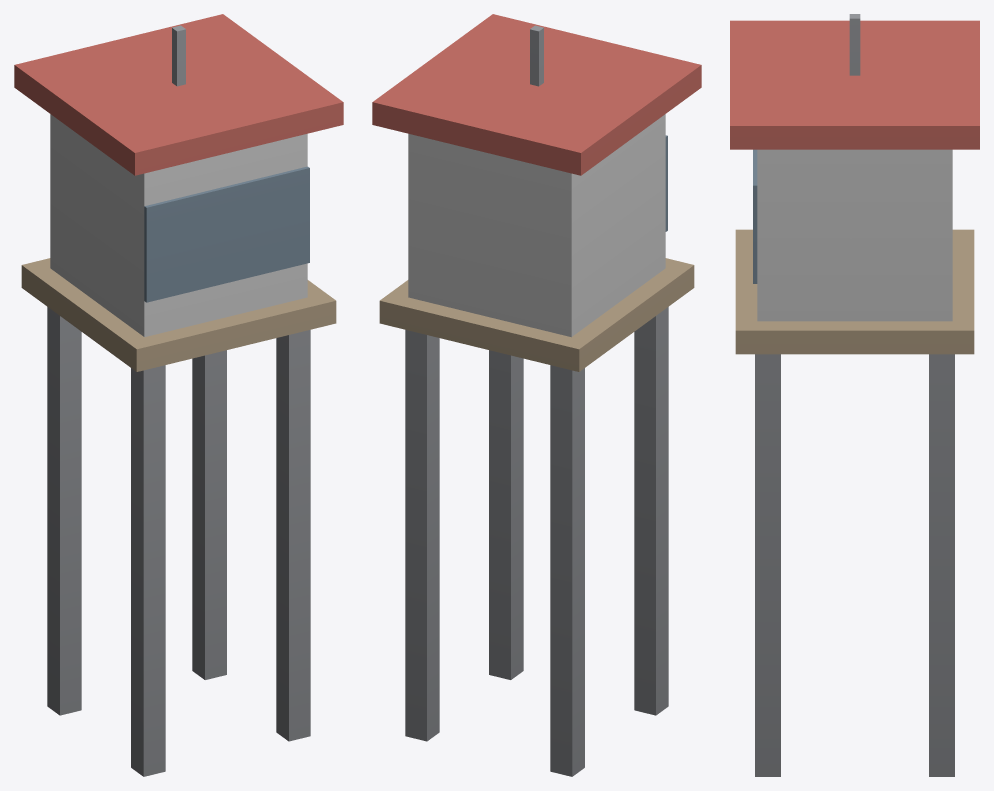
Rendered from marshal_post.glb.
3 views of the same model, side by side, from view 1: azimuth 30°, elevation 25°; view 2: azimuth 150°, elevation 25°; view 3: azimuth 270°, elevation 25° (orthographic). The views are drawn at different scales.
Visible parts, largest first — view 1: root; view 2: root; view 3: root.
Part boxes in pixels (box(x1,y1,x2,y2)): root: box(14, 14, 343, 776); root: box(372, 14, 701, 776); root: box(730, 14, 979, 776).
Bounding box in the file's own units: 1.15 × 3.65 × 1.15.
